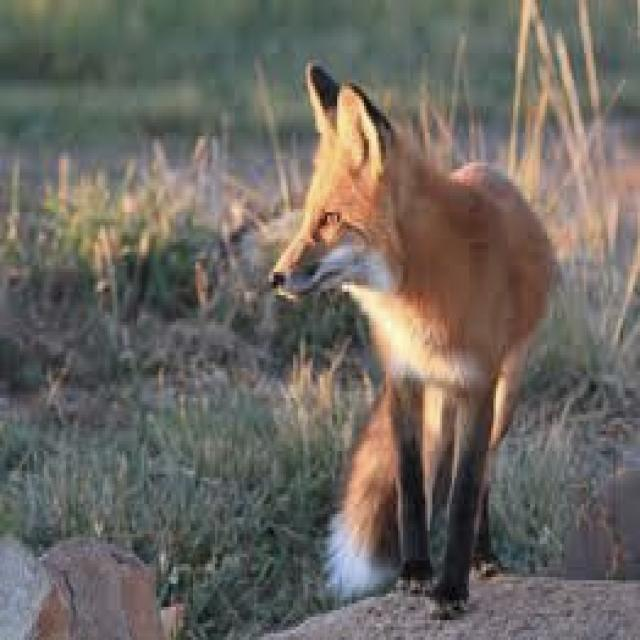fox: (271, 63, 555, 617)
